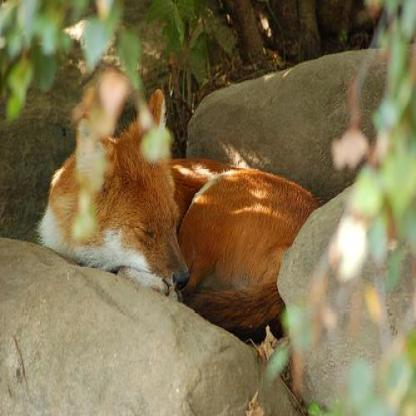dhole: (35, 86, 321, 331)
